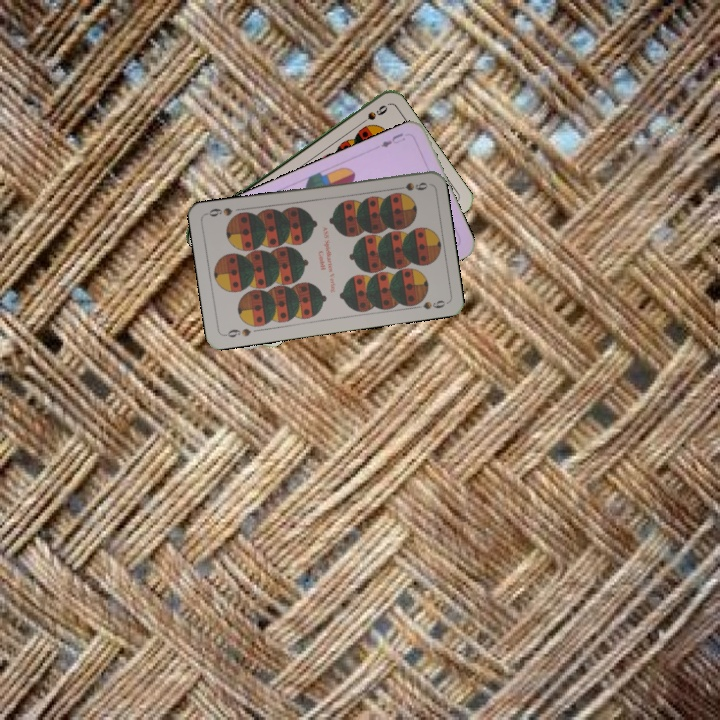EU: (377, 129, 408, 150)
S9: (354, 101, 390, 129), (390, 178, 430, 193), (220, 324, 253, 340)
